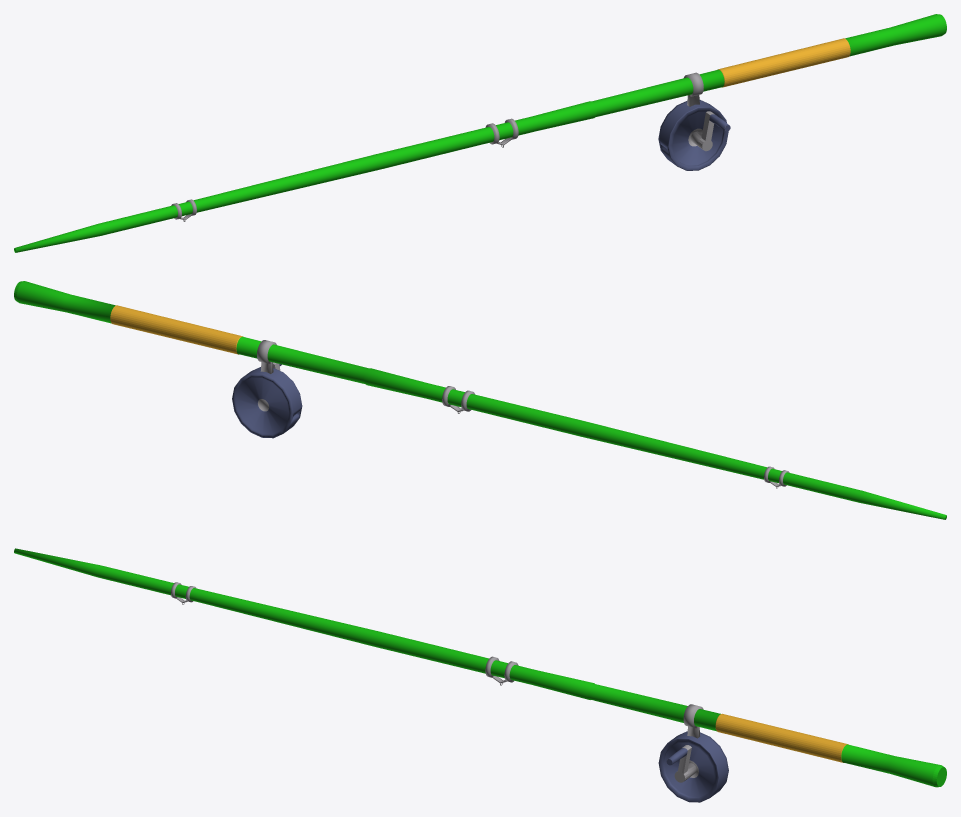
Rendered from Olta_2.fbx.
3 renders of one model, top to bottom at view 1: azimuth 30°, elevation 25°; view 2: azimuth 150°, elevation 25°; view 3: azimuth 330°, elevation 25°, orthographic.
Visible parts, largest first — view 1: Rod, Coil, Handle; view 2: Rod, Coil; view 3: Rod, Coil, Handle.
Part boxes in pixels (x1,y1,x2,y2): Rod: (14, 14, 946, 252); Coil: (658, 72, 728, 170); Handle: (690, 111, 730, 151); Rod: (14, 281, 946, 519); Coil: (232, 340, 302, 438); Rod: (14, 548, 946, 787); Coil: (658, 704, 728, 802); Handle: (666, 745, 696, 782).
Bounding box in the file's own units: 158 × 15.06 × 10.28.
